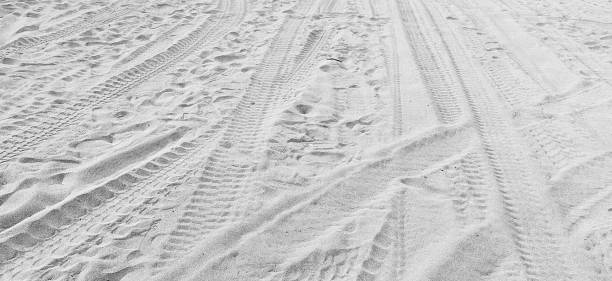vehicle_track: (155, 6, 323, 268), (0, 1, 245, 163), (437, 33, 571, 280), (397, 1, 463, 123), (0, 3, 131, 59)
